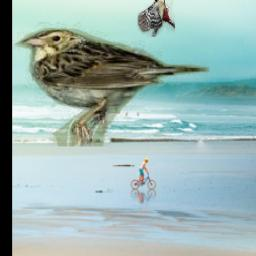Sparrow: (13, 22, 210, 146)
Woodpecker: (139, 0, 176, 37)
